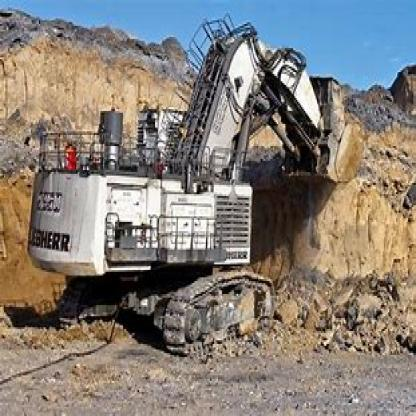excavator: (34, 22, 390, 357)
